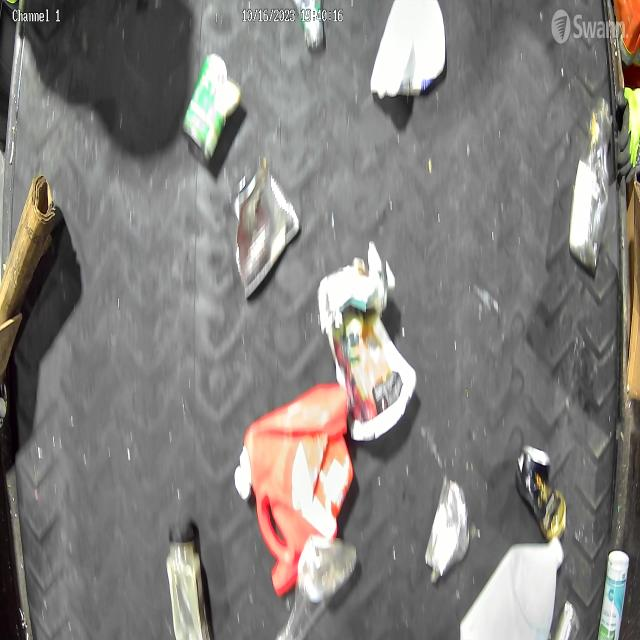can: (231, 158, 300, 302), (181, 52, 242, 166), (516, 443, 568, 543), (552, 600, 580, 640)
milk_jug: (459, 535, 565, 640)
non_white_jug: (234, 381, 356, 599)
plastic_bottle: (569, 94, 612, 278)
